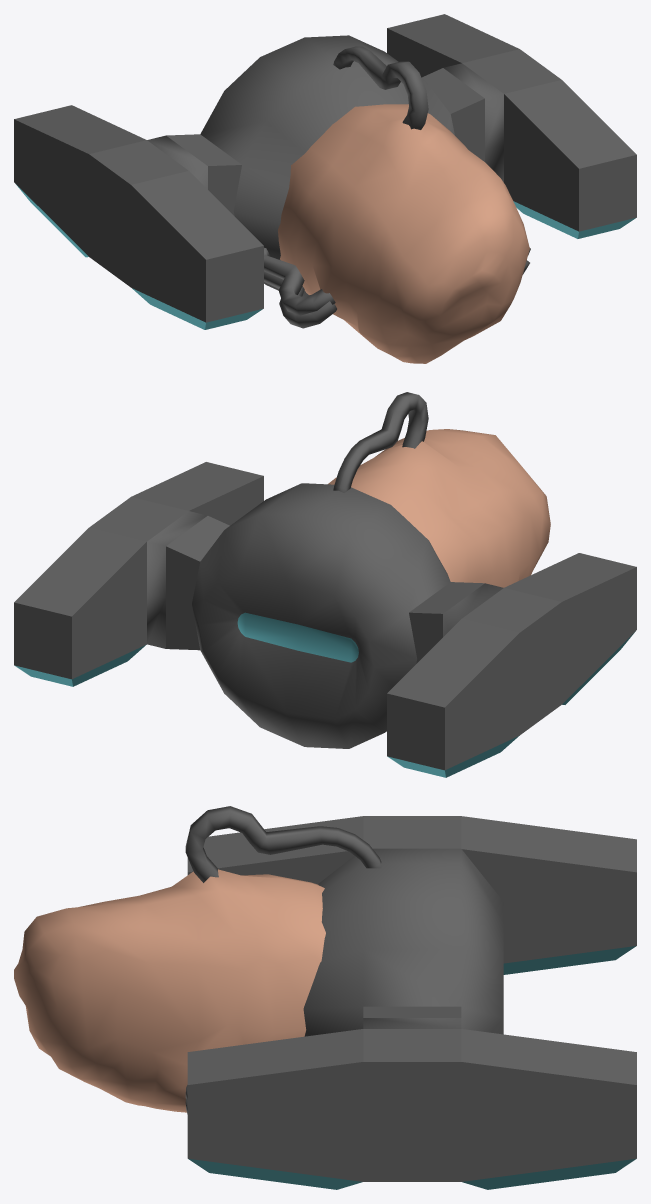
File: cyberbrain.fbx
The picture shows the model from 3 angles, top to bottom: view 1: azimuth 30°, elevation 25°; view 2: azimuth 150°, elevation 25°; view 3: azimuth 270°, elevation 25°; orthographic projection. The views are drawn at different scales.
Parts seen in each view (by area): view 1: Chasis, Biomass; view 2: Chasis, Biomass; view 3: Chasis, Biomass.
Boxes of the visible parts, <box> form: Chasis: <box>14,14,636,329</box>; Biomass: <box>278,104,529,363</box>; Chasis: <box>14,392,636,777</box>; Biomass: <box>328,429,550,587</box>; Chasis: <box>185,806,636,1189</box>; Biomass: <box>14,869,325,1112</box>.
Bounding box in the file's own units: 533 × 329 × 571.
